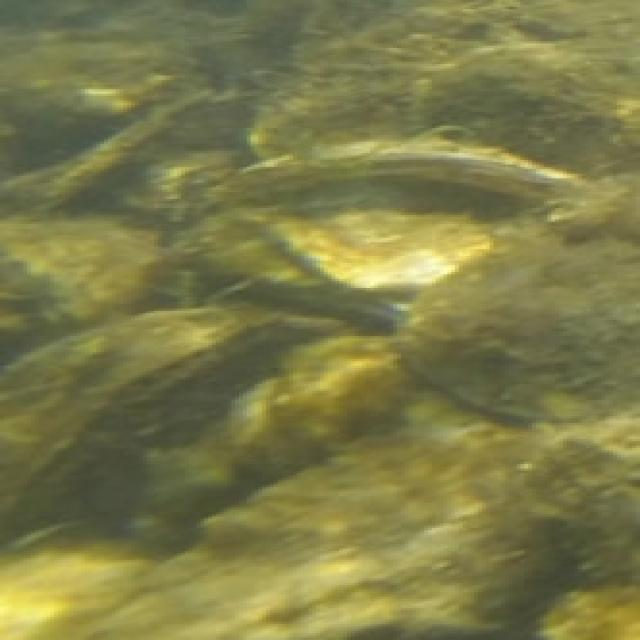Oyster-Indeterminate: (69, 427, 565, 640), (122, 336, 508, 553), (0, 307, 328, 540), (397, 175, 640, 420), (256, 0, 640, 153), (232, 184, 540, 294), (411, 43, 640, 176), (207, 141, 588, 207), (0, 93, 206, 207), (0, 218, 153, 325), (534, 438, 640, 585), (102, 149, 244, 221), (543, 584, 640, 640)
